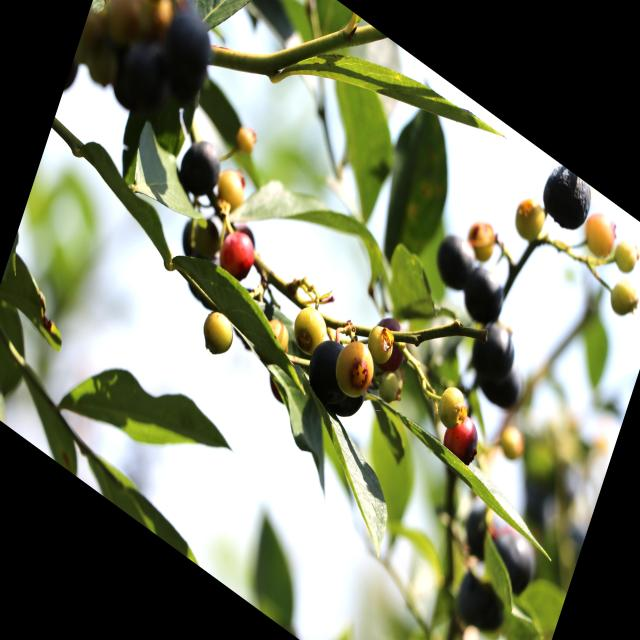blueberry: (423, 213, 486, 307), (533, 156, 597, 243), (299, 327, 359, 418), (484, 516, 542, 602), (173, 125, 228, 208), (449, 566, 510, 640), (457, 255, 512, 337), (468, 310, 522, 390), (173, 202, 223, 276)
blueberry-halfripe: (211, 220, 262, 292), (437, 402, 487, 475)
blueberry-unripe: (329, 329, 382, 408), (576, 203, 622, 271), (289, 296, 334, 364), (194, 298, 240, 364), (508, 185, 551, 249), (464, 210, 505, 270), (432, 377, 472, 437), (212, 160, 252, 218), (605, 265, 640, 325), (364, 315, 401, 369), (609, 232, 640, 282), (266, 312, 297, 355)
